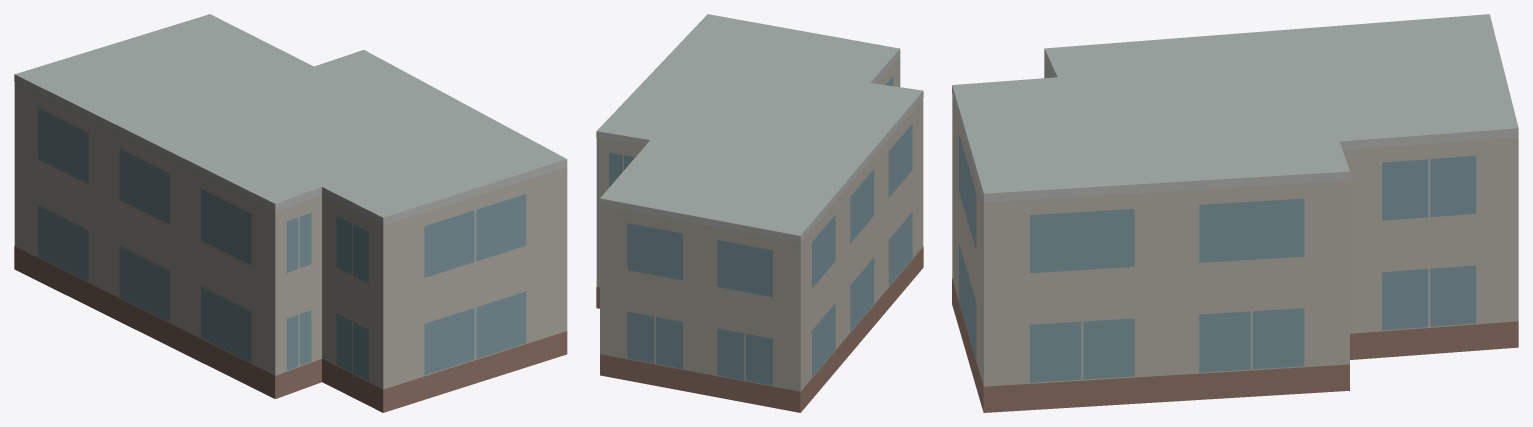
Rendered from survey-upis-32509293.glb.
3 views of the same model, side by side, from view 1: azimuth 30°, elevation 25°; view 2: azimuth 150°, elevation 25°; view 3: azimuth 270°, elevation 25° (orthographic). The views are drawn at different scales.
Visible parts, largest first — view 1: survey-upis-32509293.tmp; view 2: survey-upis-32509293.tmp; view 3: survey-upis-32509293.tmp.
Part boxes in pixels (x1,y1,x2,y2): survey-upis-32509293.tmp: (14, 14, 567, 412); survey-upis-32509293.tmp: (596, 14, 923, 412); survey-upis-32509293.tmp: (952, 14, 1518, 412).
Bounding box in the file's own units: 10.73 × 6.1 × 14.3.
